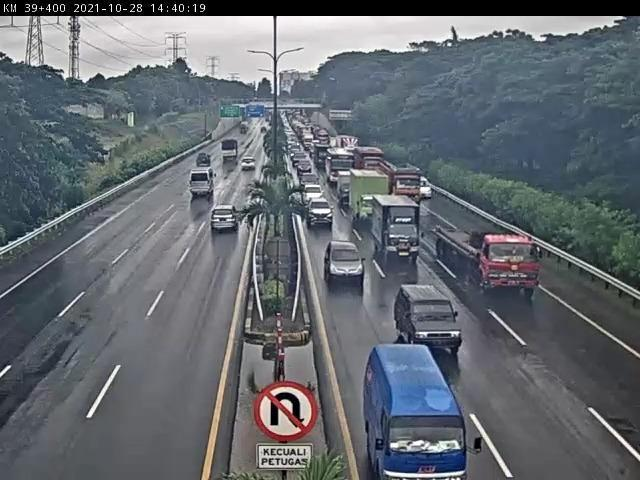bus: (368, 345, 471, 480), (189, 169, 217, 198)
car: (395, 285, 465, 355), (325, 241, 366, 286), (212, 204, 240, 232), (308, 199, 334, 227), (303, 185, 324, 205), (241, 158, 257, 174)
truck: (436, 221, 543, 298), (374, 195, 424, 263), (352, 171, 391, 224), (337, 172, 355, 207)
